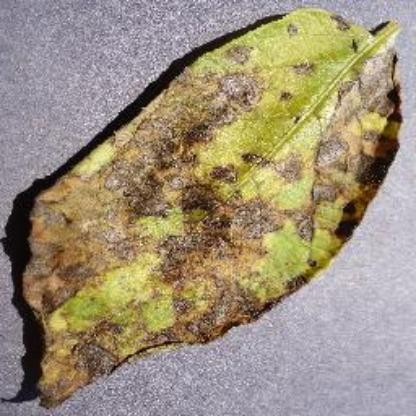Early-Blight: (13, 6, 406, 406)
